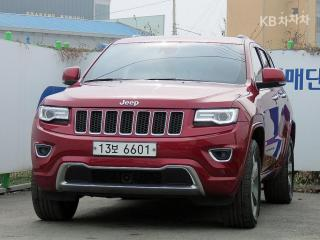0: (137, 144, 145, 155)
1: (144, 144, 151, 155), (98, 143, 103, 154)
3: (105, 143, 111, 154)
6: (123, 143, 130, 154), (131, 144, 137, 155)
보: (111, 144, 119, 154)
